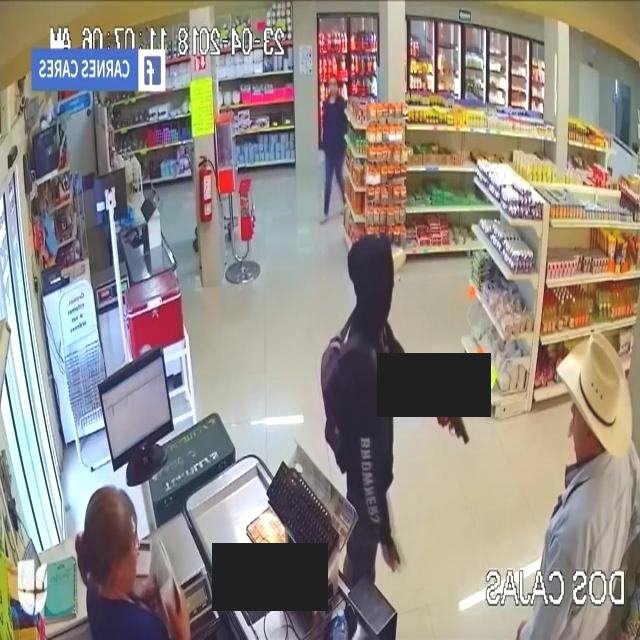gun: (440, 417, 471, 461)
